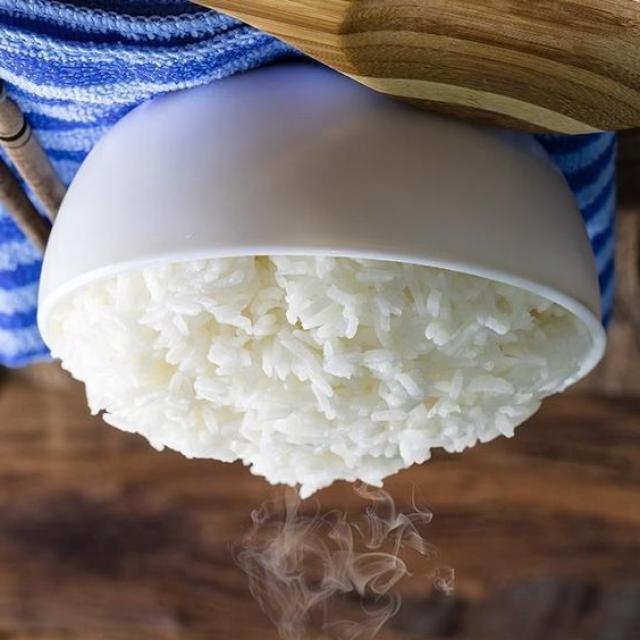nasi_putih: (48, 230, 562, 512)
